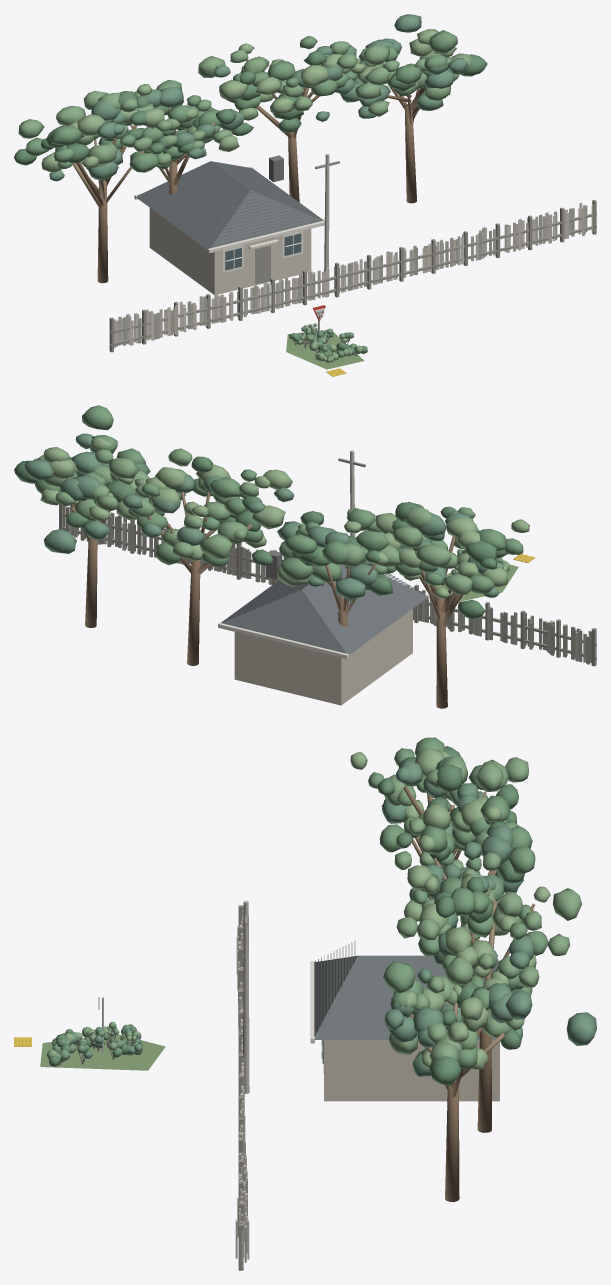
The model's file is PineHillGiveWayIntersection.glb.
3 views of the same model, one above another, from view 1: azimuth 30°, elevation 25°; view 2: azimuth 150°, elevation 25°; view 3: azimuth 270°, elevation 25° (orthographic). The views are drawn at different scales.
Parts seen in each view (by area): view 1: Hipped tiled roof, PineHillAsset_Foliage 2, PineHillAsset_Foliage 1, PineHillAsset_Foliage 4, PineHillAsset_Fence rails and posts, PineHillAsset_Foliage 3, Pine bungalow weatherboard shell, PineHillAsset_Foliage 0, PineHillAsset_Bark umber, PineHillAsset_Weathered fence board 5, PineHillAsset_Weathered fence board 4, PineHillAsset_Weathered fence board 2 (+9 smaller); view 2: PineHillAsset_Foliage 1, PineHillAsset_Foliage 2, Pine bungalow weatherboard shell, Hipped tiled roof, PineHillAsset_Foliage 3, PineHillAsset_Foliage 4, PineHillAsset_Foliage 0, PineHillAsset_Bark umber, PineHillAsset_Fence rails and posts, PineHillAsset_Weathered fence board 3, PineHillAsset_Weathered fence board 2, PineHillAsset_Weathered fence board 0 (+6 smaller); view 3: PineHillAsset_Foliage 2, PineHillAsset_Foliage 4, PineHillAsset_Foliage 1, PineHillAsset_Foliage 3, Pine bungalow weatherboard shell, Hipped tiled roof, PineHillAsset_Foliage 0, PineHillAsset_Bark umber, Grass berm near kerb, PineHillAsset_Fence rails and posts, PineHillAsset_Tile variation, Concrete roadside power pole (+1 smaller).
Boxes of the visible parts, box(x1,y1,x2,y2) form: Hipped tiled roof: box(136, 161, 323, 249); PineHillAsset_Foliage 2: box(18, 41, 472, 362); PineHillAsset_Foliage 1: box(26, 30, 457, 362); PineHillAsset_Foliage 4: box(49, 14, 467, 362); PineHillAsset_Fence rails and posts: box(109, 161, 596, 362); PineHillAsset_Foliage 3: box(41, 29, 459, 361); Pine bungalow weatherboard shell: box(149, 208, 311, 294); PineHillAsset_Foliage 0: box(14, 51, 487, 356); PineHillAsset_Bark umber: box(67, 59, 430, 283); PineHillAsset_Weathered fence board 5: box(123, 205, 587, 345); PineHillAsset_Weathered fence board 4: box(121, 203, 582, 344); PineHillAsset_Weathered fence board 2: box(115, 208, 581, 346); PineHillAsset_Foliage 1: box(34, 405, 523, 594); PineHillAsset_Foliage 2: box(33, 448, 509, 595); Pine bungalow weatherboard shell: box(234, 609, 412, 705); Hipped tiled roof: box(221, 564, 427, 654); PineHillAsset_Foliage 3: box(37, 437, 529, 598); PineHillAsset_Foliage 4: box(24, 433, 499, 600); PineHillAsset_Foliage 0: box(14, 456, 507, 619); PineHillAsset_Bark umber: box(70, 492, 462, 708); PineHillAsset_Fence rails and posts: box(59, 458, 596, 666); PineHillAsset_Weathered fence board 3: box(72, 511, 582, 662); PineHillAsset_Weathered fence board 2: box(74, 516, 586, 662); PineHillAsset_Weathered fence board 0: box(63, 506, 589, 664); PineHillAsset_Foliage 2: box(47, 755, 581, 1061); PineHillAsset_Foliage 4: box(56, 756, 596, 1076); PineHillAsset_Foliage 1: box(52, 737, 548, 1069); PineHillAsset_Foliage 3: box(65, 747, 550, 1069); Pine bungalow weatherboard shell: box(324, 1040, 499, 1101); Hipped tiled roof: box(314, 955, 499, 1039); PineHillAsset_Foliage 0: box(49, 746, 524, 1086); PineHillAsset_Bark umber: box(403, 786, 534, 1201); Grass berm near kerb: box(40, 1034, 165, 1070); PineHillAsset_Fence rails and posts: box(58, 905, 323, 1270); PineHillAsset_Tile variation: box(315, 941, 416, 1035); Concrete roadside power pole: box(243, 900, 249, 1093).
Size of the model in its own units: 30.25 by 10.81 by 23.2.
